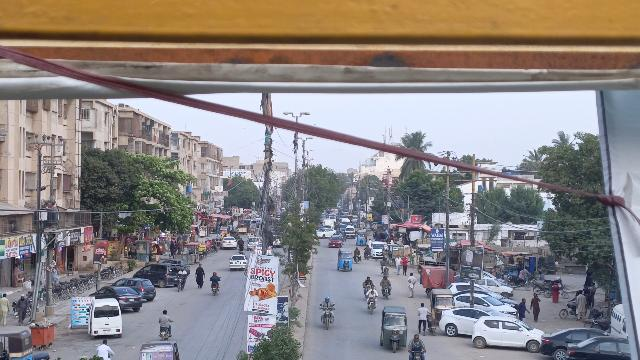Bike: (409, 333, 430, 360), (559, 298, 578, 319), (425, 309, 438, 336), (321, 307, 334, 329), (365, 296, 377, 315), (379, 284, 392, 301), (175, 277, 185, 293), (159, 325, 170, 339), (210, 283, 220, 296), (381, 266, 390, 277), (353, 253, 361, 264), (363, 252, 371, 260), (364, 286, 371, 293)
Car: (472, 313, 544, 353), (540, 325, 605, 360), (562, 333, 633, 360), (455, 293, 520, 317), (439, 305, 486, 338), (90, 285, 141, 313), (112, 276, 157, 303), (228, 254, 250, 270), (327, 234, 344, 250)
Person: (15, 292, 30, 322), (416, 301, 429, 334), (576, 290, 587, 323), (194, 262, 207, 289), (408, 332, 426, 351), (96, 339, 113, 359), (0, 291, 9, 327), (407, 271, 419, 297), (531, 293, 542, 321), (157, 309, 173, 327), (518, 296, 529, 321), (367, 283, 378, 298), (395, 254, 402, 276), (322, 296, 332, 311), (403, 254, 409, 275), (381, 275, 391, 286), (210, 271, 219, 283), (177, 267, 187, 277), (381, 256, 390, 266), (365, 275, 373, 285), (364, 244, 371, 253), (353, 246, 360, 254)
Rickshaw: (380, 304, 409, 354), (0, 325, 34, 360), (428, 287, 453, 327), (136, 341, 187, 360), (336, 248, 354, 273)
Van: (86, 297, 125, 340)
